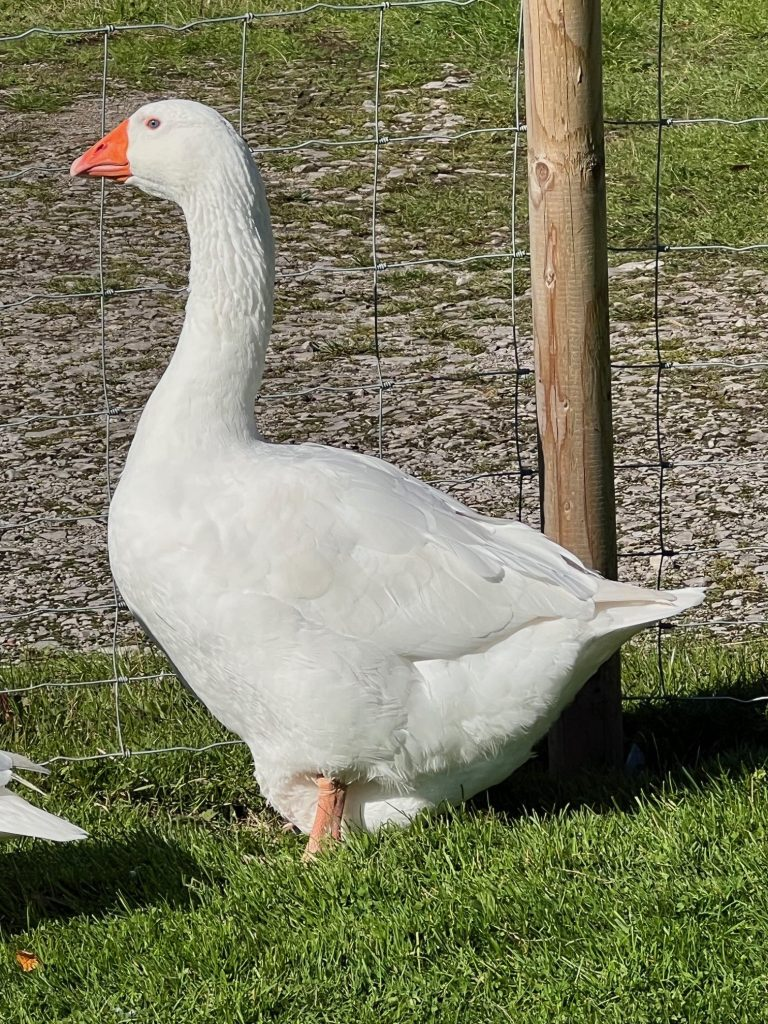goose: (75, 89, 703, 842)
